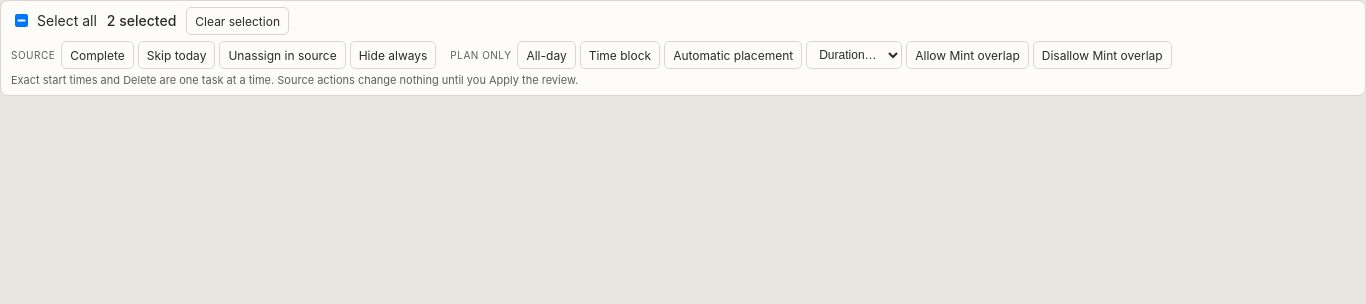
Test: results, retry, and undo › reports non-reversible steps
Step 1. Click the button "Complete" → (98, 55), box 61,41 -> 134,69
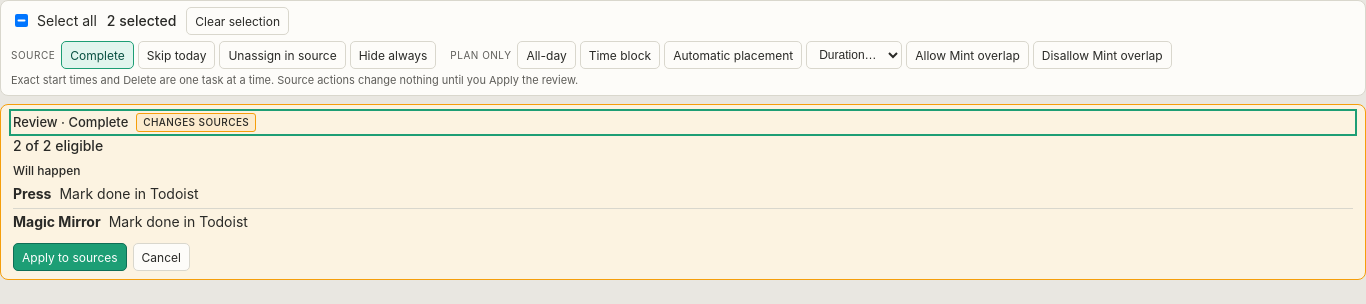
Step 2. Click the button "Apply to sources" → (70, 257), box 13,243 -> 127,271
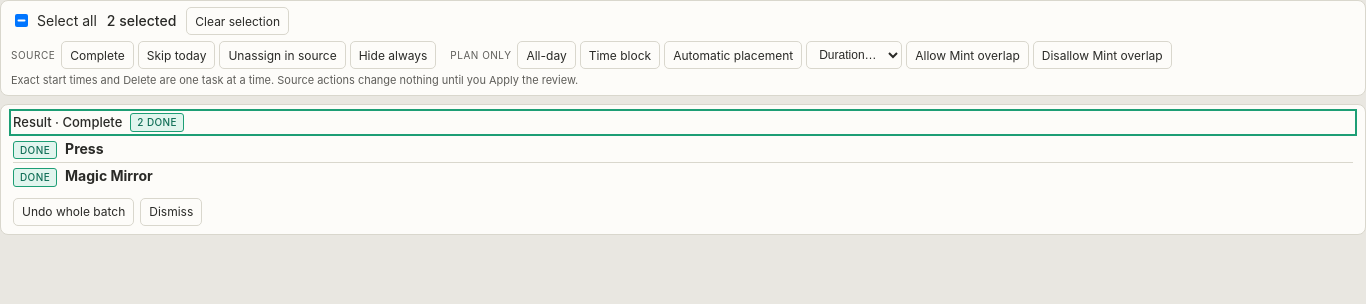
Step 3. Click the button "Undo whole batch" → (74, 212), box 13,198 -> 134,226
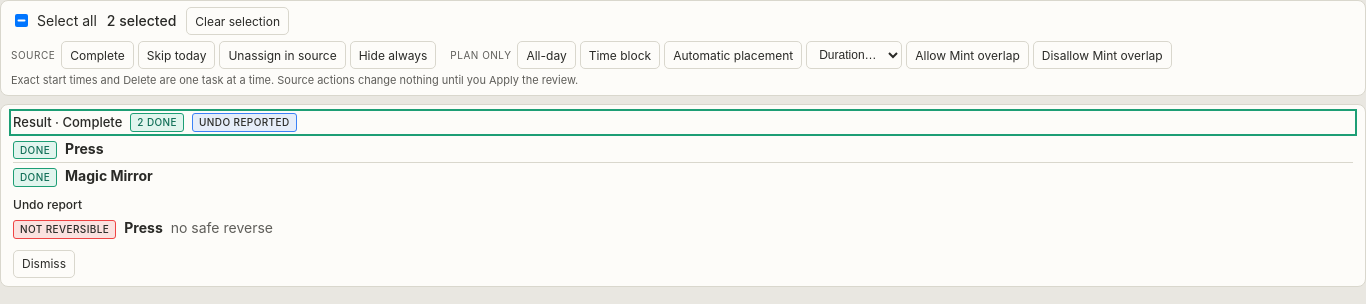
Expected: the element with test id "batch-undo-report" shows "Not reversible", 20,223 -> 109,235
Expected: the element with test id "batch-undo-report" shows "Press", 124,219 -> 163,236
Expected: the element with test id "batch-undo-report" shows "no safe reverse", 171,219 -> 273,236
